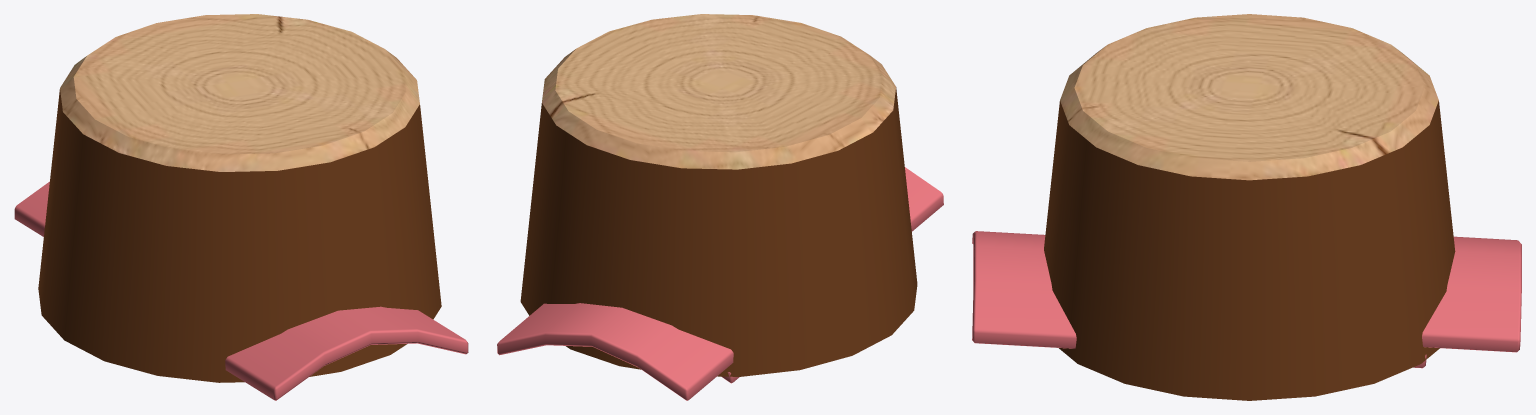
The model's file is models2.fbx.
3 views of the same model, side by side, from view 1: azimuth 30°, elevation 25°; view 2: azimuth 150°, elevation 25°; view 3: azimuth 270°, elevation 25° (orthographic). The views are drawn at different scales.
Parts seen in each view (by area): view 1: Wood_2.001, Tile_2; view 2: Wood_2.001, Tile_2; view 3: Wood_2.001, Tile_2.
Boxes of the visible parts, <box> form: Wood_2.001: <box>38,14,441,382</box>; Tile_2: <box>14,181,468,400</box>; Wood_2.001: <box>520,14,917,376</box>; Tile_2: <box>497,167,943,400</box>; Wood_2.001: <box>1044,14,1455,400</box>; Tile_2: <box>972,231,1521,368</box>.
Bounding box in the file's own units: 1.5 × 0.9055 × 1.95.
